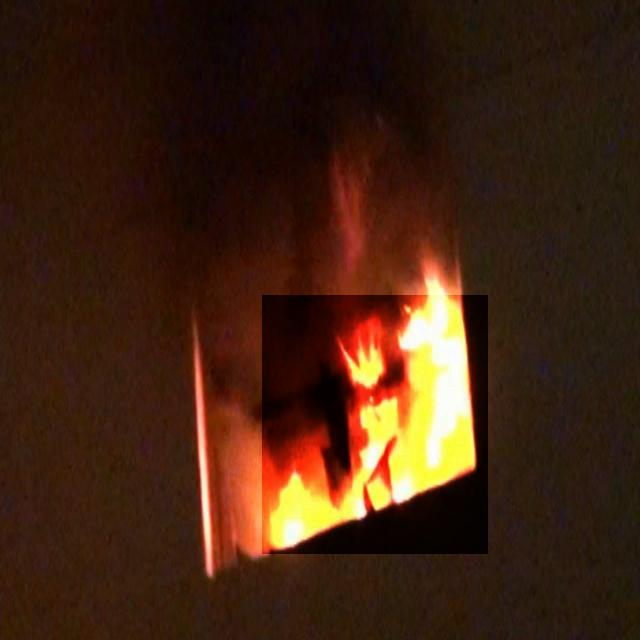Fire: (262, 295, 488, 554)
